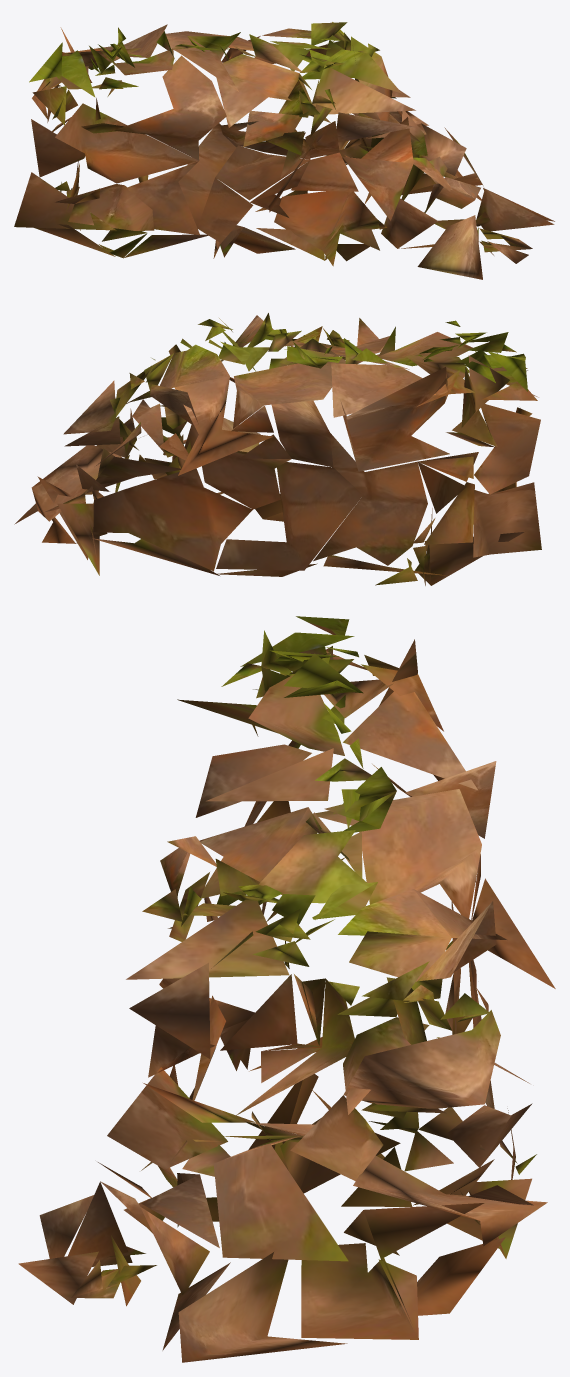
The model's file is p_garden_wall.glb.
The picture shows the model from 3 angles, top to bottom: view 1: azimuth 30°, elevation 25°; view 2: azimuth 150°, elevation 25°; view 3: azimuth 270°, elevation 25°; orthographic projection. The views are drawn at different scales.
Parts seen in each view (by area): view 1: tripo_node_4f56a65f-9b9a-4d93-86d1-9d780d315594; view 2: tripo_node_4f56a65f-9b9a-4d93-86d1-9d780d315594; view 3: tripo_node_4f56a65f-9b9a-4d93-86d1-9d780d315594.
Part boxes in pixels (bbox=[...]): tripo_node_4f56a65f-9b9a-4d93-86d1-9d780d315594: bbox=[14, 22, 554, 279]; tripo_node_4f56a65f-9b9a-4d93-86d1-9d780d315594: bbox=[14, 313, 541, 585]; tripo_node_4f56a65f-9b9a-4d93-86d1-9d780d315594: bbox=[18, 616, 555, 1362].
Size of the model in its own units: 2.03 by 1.04 by 1.21.
1 material, 1 textured.
